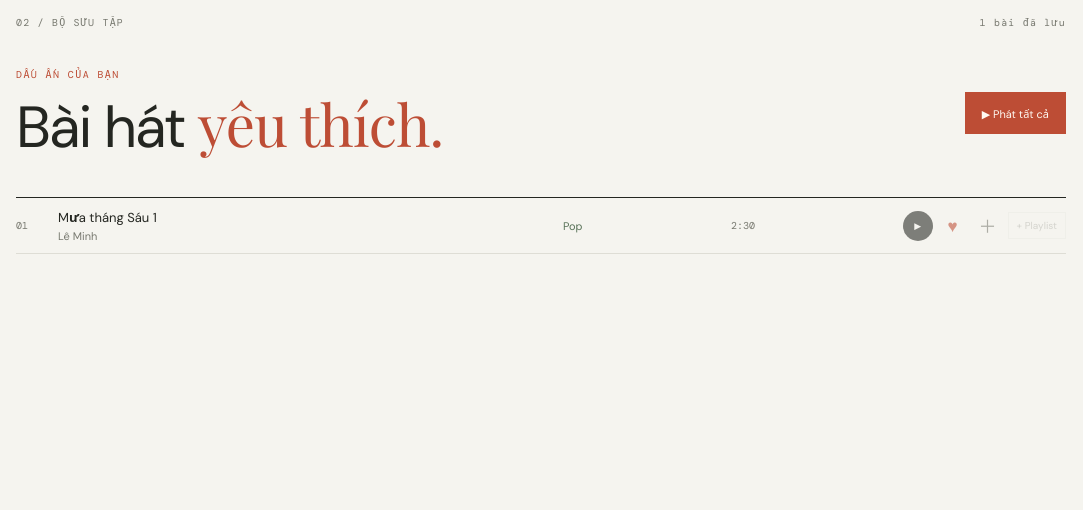
Test: FavoritesPage › phát tất cả bài yêu thích và cho phép bỏ yêu thích
The image size is (1083, 510).
Expected: the button "▶ Phát tất cả" is shown, [965,92,1066,134]
Click the button named "Bỏ yêu thích": (953, 226) [938,210,968,240]
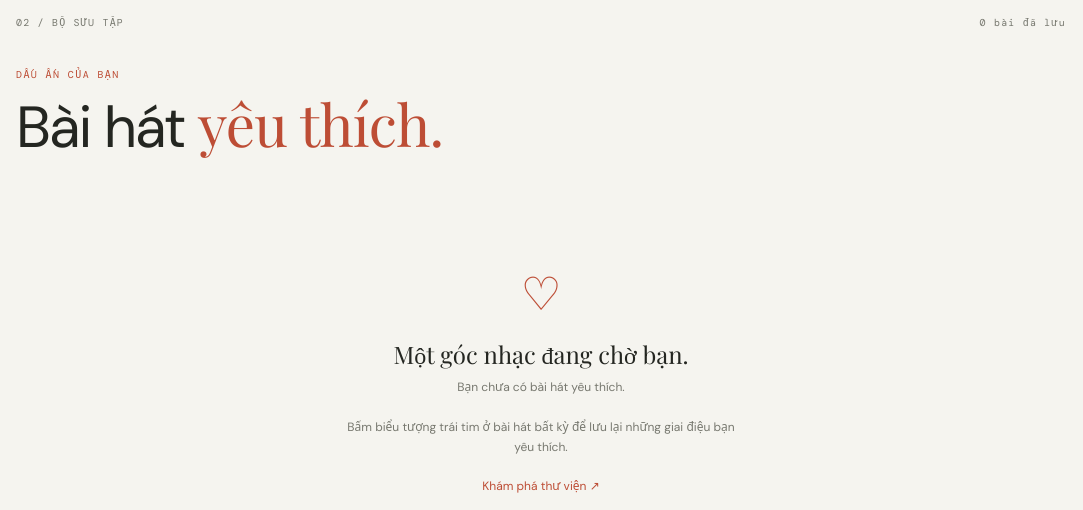
Expected: the text "Bạn chưa có bài hát yêu thích." is shown, [457,377,625,398]
